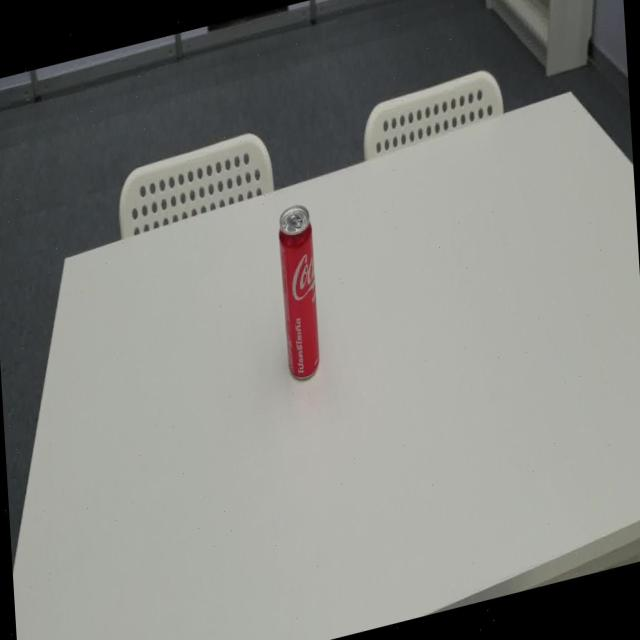coca-cola: (275, 198, 323, 391)
